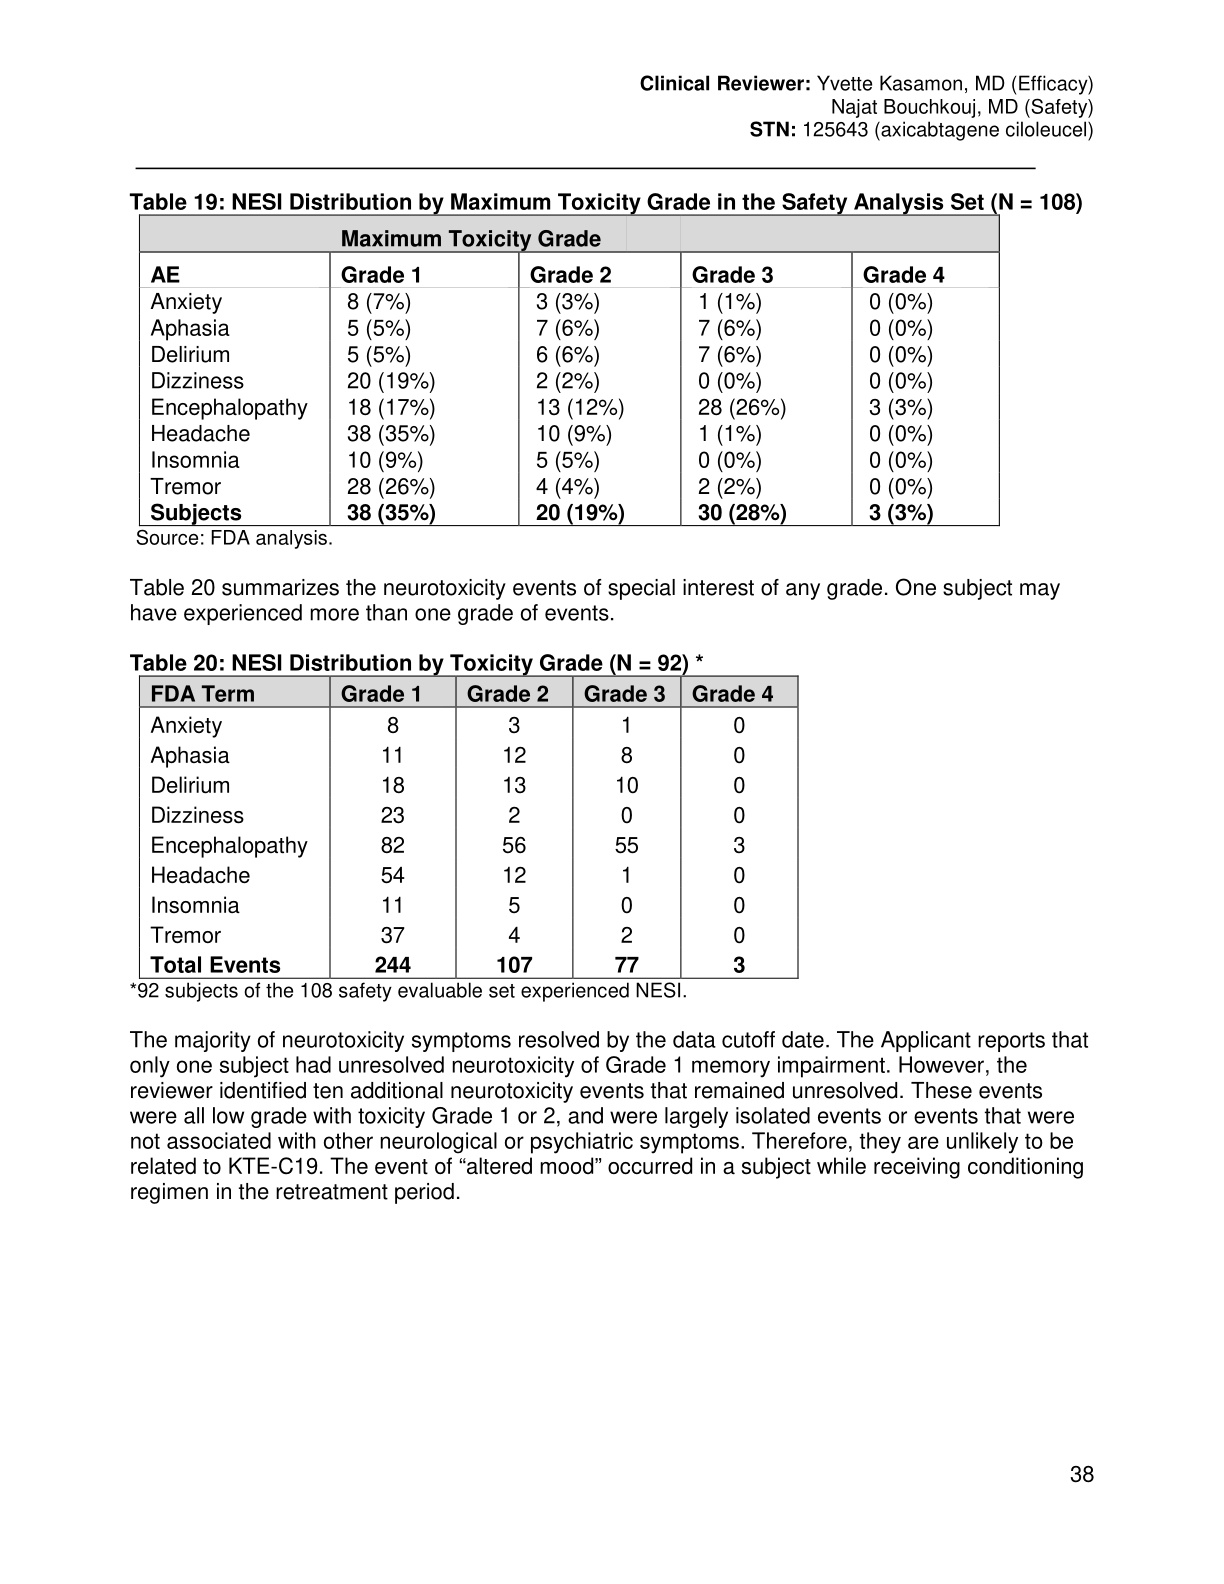partial_lined: (138, 672, 797, 978)
partial_lined_merged_cells: (138, 210, 1002, 527)
